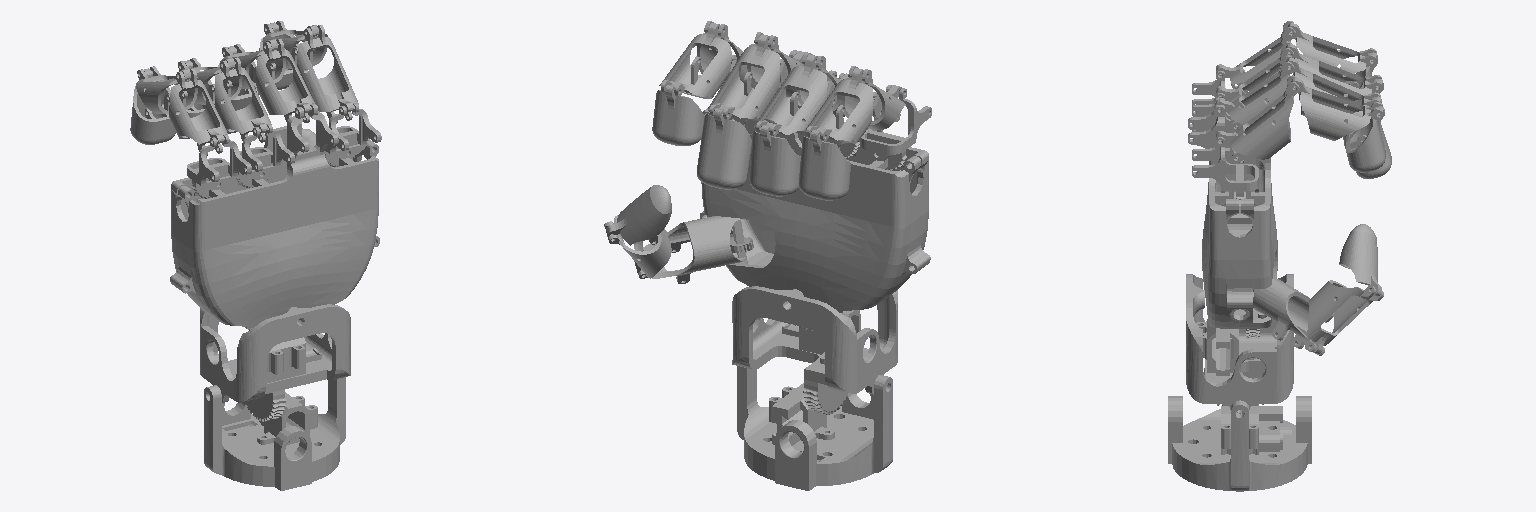
--- Render facts (derived) ---
The picture shows the robot from 3 angles, left to right: view 1: azimuth 30°, elevation 25°; view 2: azimuth 150°, elevation 25°; view 3: azimuth 270°, elevation 25°; orthographic projection.
Robot: P3_ROS — 21 links, 20 joints (20 revolute); root link AUBO_Base; default pose: joints at zero except 14 at the middle of their limits (Thumb_MCP = -1.21, Thumb_IP = -0.8858, Index_MCP = -0.855, Index_PIP = -1.08, Index_DIP = -0.9884, Middle_MCP = -0.9416, +8 more).
Links seen in each view (by area): view 1: Knuckle_Holder, Below_Palm, AUBO_Base, I_MCP, M_MCP, P_MCP, R_MCP, P_Below_MCP, R_Below_MCP, I_Below_MCP, P_DIP, P_PIP (+3 smaller); view 2: Knuckle_Holder, Below_Palm, AUBO_Base, T_CMC, M_DIP, M_PIP, R_PIP, I_PIP, R_DIP, P_DIP, P_PIP, I_DIP (+7 smaller); view 3: Knuckle_Holder, AUBO_Base, Below_Palm, I_MCP, T_MCP, I_PIP, T_CMC, I_Below_MCP, M_MCP, T_IP, P_PIP, I_DIP (+5 smaller).
Link boxes in pixels (left/top/right/bottom): Knuckle_Holder: left=170, top=103, right=379, bottom=330; Below_Palm: left=200, top=304, right=350, bottom=421; AUBO_Base: left=204, top=377, right=345, bottom=490; I_MCP: left=297, top=25, right=358, bottom=122; M_MCP: left=256, top=39, right=314, bottom=122; P_MCP: left=169, top=68, right=227, bottom=155; R_MCP: left=215, top=57, right=271, bottom=144; P_Below_MCP: left=187, top=134, right=251, bottom=198; R_Below_MCP: left=236, top=124, right=294, bottom=187; I_Below_MCP: left=325, top=103, right=381, bottom=166; P_DIP: left=130, top=68, right=175, bottom=144; P_PIP: left=136, top=66, right=197, bottom=113; Knuckle_Holder: left=700, top=50, right=930, bottom=330; Below_Palm: left=732, top=286, right=897, bottom=414; AUBO_Base: left=737, top=366, right=892, bottom=490; T_CMC: left=634, top=216, right=753, bottom=283; M_DIP: left=697, top=108, right=751, bottom=189; M_PIP: left=708, top=34, right=779, bottom=121; R_PIP: left=754, top=54, right=827, bottom=136; I_PIP: left=659, top=23, right=731, bottom=98; R_DIP: left=749, top=125, right=800, bottom=196; P_DIP: left=799, top=129, right=850, bottom=200; P_PIP: left=804, top=68, right=872, bottom=143; I_DIP: left=652, top=85, right=704, bottom=145; Knuckle_Holder: left=1188, top=98, right=1277, bottom=338; AUBO_Base: left=1168, top=396, right=1311, bottom=491; Below_Palm: left=1186, top=274, right=1293, bottom=413; I_MCP: left=1216, top=75, right=1299, bottom=162; T_MCP: left=1307, top=280, right=1383, bottom=353; I_PIP: left=1291, top=78, right=1382, bottom=140; T_CMC: left=1253, top=277, right=1324, bottom=355; I_Below_MCP: left=1192, top=131, right=1258, bottom=207; M_MCP: left=1215, top=55, right=1294, bottom=131; T_IP: left=1339, top=224, right=1381, bottom=296; P_PIP: left=1288, top=23, right=1376, bottom=75; I_DIP: left=1346, top=106, right=1385, bottom=172.
Size in the robot's own frame: 0.1485 by 0.1198 by 0.2467 metres.
21 mesh visuals loaded from 21 distinct referenced files (21 binary STL).

The robot description file, URDF, robot "P3_ROS":
<?xml version="1.0" encoding="utf-8"?>
<!-- This URDF was automatically created by SolidWorks to URDF Exporter! Originally created by Stephen Brawner ([email redacted]) 
     Commit Version: 1.6.0-4-g7f85cfe  Build Version: 1.6.7995.38578
     For more information, please see http://wiki.ros.org/sw_urdf_exporter -->
<robot
  name="P3_ROS">
  <link
    name="AUBO_Base">
    <inertial>
      <origin
        xyz="0.00278040178371279 0.0137619089402064 -0.000267427347976779"
        rpy="0 0 0" />
      <mass
        value="0.0536915416174576" />
      <inertia
        ixx="2.70801043475091E-05"
        ixy="-4.02713297525871E-07"
        ixz="2.10419992156217E-07"
        iyy="4.87071775355948E-05"
        iyz="1.75973062686978E-07"
        izz="3.26759005649058E-05" />
    </inertial>
    <visual>
      <origin
        xyz="0 0 0"
        rpy="0 0 0" />
      <geometry>
        <mesh
          filename="package://P3_ROS/meshes/AUBO_Base.STL" />
      </geometry>
      <material
        name="">
        <color
          rgba="0.698039215686274 0.698039215686274 0.698039215686274 1" />
      </material>
    </visual>
    <collision>
      <origin
        xyz="0 0 0"
        rpy="0 0 0" />
      <geometry>
        <mesh
          filename="package://P3_ROS/meshes/AUBO_Base.STL" />
      </geometry>
    </collision>
  </link>
  <link
    name="Below_Palm">
    <inertial>
      <origin
        xyz="-0.00161904873633678 0.0170034509609812 0.000924243542658435"
        rpy="0 0 0" />
      <mass
        value="0.0583769628757469" />
      <inertia
        ixx="4.54620375746746E-05"
        ixy="-3.49858982409835E-07"
        ixz="2.96293190384862E-07"
        iyy="4.71250564940575E-05"
        iyz="-1.72909999743254E-06"
        izz="3.52450763174062E-05" />
    </inertial>
    <visual>
      <origin
        xyz="0 0 0"
        rpy="0 0 0" />
      <geometry>
        <mesh
          filename="package://P3_ROS/meshes/Below_Palm.STL" />
      </geometry>
      <material
        name="">
        <color
          rgba="0.698039215686274 0.698039215686274 0.698039215686274 1" />
      </material>
    </visual>
    <collision>
      <origin
        xyz="0 0 0"
        rpy="0 0 0" />
      <geometry>
        <mesh
          filename="package://P3_ROS/meshes/Below_Palm.STL" />
      </geometry>
    </collision>
  </link>
  <joint
    name="Wrist_2"
    type="revolute">
    <origin
      xyz="0 0 0.049"
      rpy="1.5708 0 1.5708" />
    <parent
      link="AUBO_Base" />
    <child
      link="Below_Palm" />
    <axis
      xyz="0 0 1" />
    <limit
      lower="-1.1294"
      upper="1.2489"
      effort="0"
      velocity="0" />
  </joint>
  <link
    name="Knuckle_Holder">
    <inertial>
      <origin
        xyz="0.00127180755281365 0.0369506250760439 -0.00063534532092032"
        rpy="0 0 0" />
      <mass
        value="0.116848968632615" />
      <inertia
        ixx="0.000126096351062626"
        ixy="7.84970809749604E-06"
        ixz="-2.9838290073608E-06"
        iyy="0.000151450089009521"
        iyz="2.70550323065712E-06"
        izz="0.000236651192540967" />
    </inertial>
    <visual>
      <origin
        xyz="0 0 0"
        rpy="0 0 0" />
      <geometry>
        <mesh
          filename="package://P3_ROS/meshes/Knuckle_Holder.STL" />
      </geometry>
      <material
        name="">
        <color
          rgba="0.698039215686274 0.698039215686274 0.698039215686274 1" />
      </material>
    </visual>
    <collision>
      <origin
        xyz="0 0 0"
        rpy="0 0 0" />
      <geometry>
        <mesh
          filename="package://P3_ROS/meshes/Knuckle_Holder.STL" />
      </geometry>
    </collision>
  </link>
  <joint
    name="Wrist_1"
    type="revolute">
    <origin
      xyz="0 0.048 0.0027545"
      rpy="0 1.5708 0" />
    <parent
      link="Below_Palm" />
    <child
      link="Knuckle_Holder" />
    <axis
      xyz="0 0 1" />
    <limit
      lower="-0.41544"
      upper="0.41544"
      effort="0"
      velocity="0" />
  </joint>
  <link
    name="T_CMC">
    <inertial>
      <origin
        xyz="-0.0188547439499926 0.0171938818918783 -0.02142438462294"
        rpy="0 0 0" />
      <mass
        value="0.00757646844060059" />
      <inertia
        ixx="1.8547197356156E-06"
        ixy="3.95328998638882E-08"
        ixz="-4.21686926967571E-08"
        iyy="8.95427700424448E-07"
        iyz="-2.71565458332892E-07"
        izz="2.01850506438788E-06" />
    </inertial>
    <visual>
      <origin
        xyz="0 0 0"
        rpy="0 0 0" />
      <geometry>
        <mesh
          filename="package://P3_ROS/meshes/T_CMC.STL" />
      </geometry>
      <material
        name="">
        <color
          rgba="0.698039215686274 0.698039215686274 0.698039215686274 1" />
      </material>
    </visual>
    <collision>
      <origin
        xyz="0 0 0"
        rpy="0 0 0" />
      <geometry>
        <mesh
          filename="package://P3_ROS/meshes/T_CMC.STL" />
      </geometry>
    </collision>
  </link>
  <joint
    name="Thumb_CMC"
    type="revolute">
    <origin
      xyz="-0.03389 -0.0067732 0.011594"
      rpy="2.1814 -0.59941 -0.7352" />
    <parent
      link="Knuckle_Holder" />
    <child
      link="T_CMC" />
    <axis
      xyz="0.64279 0 0.76604" />
    <limit
      lower="-1.5708"
      upper="0"
      effort="0"
      velocity="0" />
  </joint>
  <link
    name="T_MCP">
    <inertial>
      <origin
        xyz="-0.0191724859142255 0.0222044167762714 -0.0105839597746515"
        rpy="0 0 0" />
      <mass
        value="0.00341830832417688" />
      <inertia
        ixx="5.43824756092306E-07"
        ixy="4.39696982794731E-12"
        ixz="-1.36130893885665E-11"
        iyy="4.21320145077056E-07"
        iyz="1.45881129591116E-08"
        izz="6.4153361173526E-07" />
    </inertial>
    <visual>
      <origin
        xyz="0 0 0"
        rpy="0 0 0" />
      <geometry>
        <mesh
          filename="package://P3_ROS/meshes/T_MCP.STL" />
      </geometry>
      <material
        name="">
        <color
          rgba="0.698039215686274 0.698039215686274 0.698039215686274 1" />
      </material>
    </visual>
    <collision>
      <origin
        xyz="0 0 0"
        rpy="0 0 0" />
      <geometry>
        <mesh
          filename="package://P3_ROS/meshes/T_MCP.STL" />
      </geometry>
    </collision>
  </link>
  <joint
    name="Thumb_MCP"
    type="revolute">
    <origin
      xyz="0 0.051 -0.011349"
      rpy="0.024222 0 0" />
    <parent
      link="T_CMC" />
    <child
      link="T_MCP" />
    <axis
      xyz="1 0 0" />
    <limit
      lower="-1.5528"
      upper="-0.86457"
      effort="0"
      velocity="0" />
  </joint>
  <link
    name="T_IP">
    <inertial>
      <origin
        xyz="-0.019153877270479 0.0208567015566215 -0.011166175758786"
        rpy="0 0 0" />
      <mass
        value="0.00367311050909873" />
      <inertia
        ixx="3.21810615947136E-07"
        ixy="2.91776079744812E-11"
        ixz="-5.04769074712269E-10"
        iyy="2.60686503696625E-07"
        iyz="7.12951435821031E-08"
        izz="3.29785541515355E-07" />
    </inertial>
    <visual>
      <origin
        xyz="0 0 0"
        rpy="0 0 0" />
      <geometry>
        <mesh
          filename="package://P3_ROS/meshes/T_IP.STL" />
      </geometry>
      <material
        name="">
        <color
          rgba="0.698039215686274 0.698039215686274 0.698039215686274 1" />
      </material>
    </visual>
    <collision>
      <origin
        xyz="0 0 0"
        rpy="0 0 0" />
      <geometry>
        <mesh
          filename="package://P3_ROS/meshes/T_IP.STL" />
      </geometry>
    </collision>
  </link>
  <joint
    name="Thumb_IP"
    type="revolute">
    <origin
      xyz="0 0.0465 0"
      rpy="0.0052649 0 0" />
    <parent
      link="T_MCP" />
    <child
      link="T_IP" />
    <axis
      xyz="1 0 0" />
    <limit
      lower="-1.23306"
      upper="-0.538504"
      effort="0"
      velocity="0" />
  </joint>
  <link
    name="I_Below_MCP">
    <inertial>
      <origin
        xyz="-1.91332690316348E-08 0.00523994189276999 0.00438611499640017"
        rpy="0 0 0" />
      <mass
        value="0.00534951941489969" />
      <inertia
        ixx="7.32906606259805E-07"
        ixy="-1.39714191646785E-14"
        ixz="-8.65569458872673E-12"
        iyy="6.96470076212018E-07"
        iyz="-2.16946811935413E-07"
        izz="7.16960840620401E-07" />
    </inertial>
    <visual>
      <origin
        xyz="0 0 0"
        rpy="0 0 0" />
      <geometry>
        <mesh
          filename="package://P3_ROS/meshes/I_Below_MCP.STL" />
      </geometry>
      <material
        name="">
        <color
          rgba="0.698039215686274 0.698039215686274 0.698039215686274 1" />
      </material>
    </visual>
    <collision>
      <origin
        xyz="0 0 0"
        rpy="0 0 0" />
      <geometry>
        <mesh
          filename="package://P3_ROS/meshes/I_Below_MCP.STL" />
      </geometry>
    </collision>
  </link>
  <joint
    name="Index_Below_MCP"
    type="revolute">
    <origin
      xyz="-0.042 0.087 0"
      rpy="3.1416 0 -3.1416" />
    <parent
      link="Knuckle_Holder" />
    <child
      link="I_Below_MCP" />
    <axis
      xyz="0 0 1" />
    <limit
      lower="-0.52018"
      upper="0"
      effort="0"
      velocity="0" />
  </joint>
  <link
    name="I_MCP">
    <inertial>
      <origin
        xyz="1.60706075696959E-07 0.0214534559005647 -0.0126089340150891"
        rpy="0 0 0" />
      <mass
        value="0.0042784827079899" />
      <inertia
        ixx="8.95459066830798E-07"
        ixy="5.52207282220504E-13"
        ixz="1.00727231307694E-11"
        iyy="5.21814062850473E-07"
        iyz="-2.37787524308387E-08"
        izz="1.02538663795254E-06" />
    </inertial>
    <visual>
      <origin
        xyz="0 0 0"
        rpy="0 0 0" />
      <geometry>
        <mesh
          filename="package://P3_ROS/meshes/I_MCP.STL" />
      </geometry>
      <material
        name="">
        <color
          rgba="0.698039215686274 0.698039215686274 0.698039215686274 1" />
      </material>
    </visual>
    <collision>
      <origin
        xyz="0 0 0"
        rpy="0 0 0" />
      <geometry>
        <mesh
          filename="package://P3_ROS/meshes/I_MCP.STL" />
      </geometry>
    </collision>
  </link>
  <joint
    name="Index_MCP"
    type="revolute">
    <origin
      xyz="0 0.028 0.0105"
      rpy="0 0 0" />
    <parent
      link="I_Below_MCP" />
    <child
      link="I_MCP" />
    <axis
      xyz="1 0 0" />
    <limit
      lower="-1.3654"
      upper="-0.34457"
      effort="0"
      velocity="0" />
  </joint>
  <link
    name="I_PIP">
    <inertial>
      <origin
        xyz="0.0104745637601555 0.0225277058184466 -5.84985698770524E-08"
        rpy="0 0 0" />
      <mass
        value="0.00371498527382687" />
      <inertia
        ixx="7.38341931114289E-07"
        ixy="-4.06415607145458E-09"
        ixz="-1.83681530443573E-11"
        iyy="4.59557692097787E-07"
        iyz="3.38393387626485E-12"
        izz="6.17675084887777E-07" />
    </inertial>
    <visual>
      <origin
        xyz="0 0 0"
        rpy="0 0 0" />
      <geometry>
        <mesh
          filename="package://P3_ROS/meshes/I_PIP.STL" />
      </geometry>
      <material
        name="">
        <color
          rgba="0.698039215686274 0.698039215686274 0.698039215686274 1" />
      </material>
    </visual>
    <collision>
      <origin
        xyz="0 0 0"
        rpy="0 0 0" />
      <geometry>
        <mesh
          filename="package://P3_ROS/meshes/I_PIP.STL" />
      </geometry>
    </collision>
  </link>
  <joint
    name="Index_PIP"
    type="revolute">
    <origin
      xyz="0 0.051 -0.00225"
      rpy="1.5708 1.5514 1.5708" />
    <parent
      link="I_MCP" />
    <child
      link="I_PIP" />
    <axis
      xyz="0 0 1" />
    <limit
      lower="-1.4455"
      upper="-0.7113"
      effort="0"
      velocity="0" />
  </joint>
  <link
    name="I_DIP">
    <inertial>
      <origin
        xyz="0.0102174474149143 0.0199762603712053 2.46091446727548E-07"
        rpy="0 0 0" />
      <mass
        value="0.00425159376419967" />
      <inertia
        ixx="4.98356420749076E-07"
        ixy="-9.57564593733141E-08"
        ixz="1.60587365235624E-11"
        iyy="4.23167175698519E-07"
        iyz="1.30948453717986E-11"
        izz="4.28705970306008E-07" />
    </inertial>
    <visual>
      <origin
        xyz="0 0 0"
        rpy="0 0 0" />
      <geometry>
        <mesh
          filename="package://P3_ROS/meshes/I_DIP.STL" />
      </geometry>
      <material
        name="">
        <color
          rgba="0.698039215686274 0.698039215686274 0.698039215686274 1" />
      </material>
    </visual>
    <collision>
      <origin
        xyz="0 0 0"
        rpy="0 0 0" />
      <geometry>
        <mesh
          filename="package://P3_ROS/meshes/I_DIP.STL" />
      </geometry>
    </collision>
  </link>
  <joint
    name="Index_DIP"
    type="revolute">
    <origin
      xyz="0 0.048 0"
      rpy="0 0 -0.019349" />
    <parent
      link="I_PIP" />
    <child
      link="I_DIP" />
    <axis
      xyz="0 0 1" />
    <limit
      lower="-1.337445"
      upper="-0.6394"
      effort="0"
      velocity="0" />
  </joint>
  <link
    name="M_MCP">
    <inertial>
      <origin
        xyz="0.0130000993756648 0.0194738060288053 -0.0122615751764491"
        rpy="0 0 0" />
      <mass
        value="0.00356183832705754" />
      <inertia
        ixx="6.33645316662712E-07"
        ixy="-7.48322283457872E-13"
        ixz="6.42992202281087E-13"
        iyy="4.32226138228889E-07"
        iyz="-2.1398582434494E-08"
        izz="7.46627420187009E-07" />
    </inertial>
    <visual>
      <origin
        xyz="0 0 0"
        rpy="0 0 0" />
      <geometry>
        <mesh
          filename="package://P3_ROS/meshes/M_MCP.STL" />
      </geometry>
      <material
        name="">
        <color
          rgba="0.698039215686274 0.698039215686274 0.698039215686274 1" />
      </material>
    </visual>
    <collision>
      <origin
        xyz="0 0 0"
        rpy="0 0 0" />
      <geometry>
        <mesh
          filename="package://P3_ROS/meshes/M_MCP.STL" />
      </geometry>
    </collision>
  </link>
  <joint
    name="Middle_MCP"
    type="revolute">
    <origin
      xyz="-0.001 0.121 -0.01094"
      rpy="3.1416 0 -3.1416" />
    <parent
      link="Knuckle_Holder" />
    <child
      link="M_MCP" />
    <axis
      xyz="1 0 0" />
    <limit
      lower="-1.4628"
      upper="-0.42033"
      effort="0"
      velocity="0" />
  </joint>
  <link
    name="M_PIP">
    <inertial>
      <origin
        xyz="0.0129994238022933 0.0252582720879362 -0.0108332662698445"
        rpy="0 0 0" />
      <mass
        value="0.0042553891681153" />
      <inertia
        ixx="8.07748529628043E-07"
        ixy="4.68568994911255E-11"
        ixz="-3.58312710518182E-11"
        iyy="5.2753515678823E-07"
        iyz="3.2166787078737E-08"
        izz="9.1440891219387E-07" />
    </inertial>
    <visual>
      <origin
        xyz="0 0 0"
        rpy="0 0 0" />
      <geometry>
        <mesh
          filename="package://P3_ROS/meshes/M_PIP.STL" />
      </geometry>
      <material
        name="">
        <color
          rgba="0.698039215686274 0.698039215686274 0.698039215686274 1" />
      </material>
    </visual>
    <collision>
      <origin
        xyz="0 0 0"
        rpy="0 0 0" />
      <geometry>
        <mesh
          filename="package://P3_ROS/meshes/M_PIP.STL" />
      </geometry>
    </collision>
  </link>
  <joint
    name="Middle_PIP"
    type="revolute">
    <origin
      xyz="0 0.045 -0.00225"
      rpy="0 0 0" />
    <parent
      link="M_MCP" />
    <child
      link="M_PIP" />
    <axis
      xyz="1 0 0" />
    <limit
      lower="-1.41076"
      upper="-0.74815"
      effort="0"
      velocity="0" />
  </joint>
  <link
    name="M_DIP">
    <inertial>
      <origin
        xyz="0.0129999509487357 0.0249602568688863 -0.0106926657966948"
        rpy="0 0 0" />
      <mass
        value="0.00577415599836008" />
      <inertia
        ixx="8.72036436536961E-07"
        ixy="1.19263359390556E-12"
        ixz="-3.90884366578215E-12"
        iyy="6.22688915702931E-07"
        iyz="1.33056795383682E-07"
        izz="9.77941426673379E-07" />
    </inertial>
    <visual>
      <origin
        xyz="0 0 0"
        rpy="0 0 0" />
      <geometry>
        <mesh
          filename="package://P3_ROS/meshes/M_DIP.STL" />
      </geometry>
      <material
        name="">
        <color
          rgba="0.698039215686274 0.698039215686274 0.698039215686274 1" />
      </material>
    </visual>
    <collision>
      <origin
        xyz="0 0 0"
        rpy="0 0 0" />
      <geometry>
        <mesh
          filename="package://P3_ROS/meshes/M_DIP.STL" />
      </geometry>
    </collision>
  </link>
  <joint
    name="Middle_DIP"
    type="revolute">
    <origin
      xyz="0 0.0515 0"
      rpy="0 0 0" />
    <parent
      link="M_PIP" />
    <child
      link="M_DIP" />
    <axis
      xyz="1 0 0" />
    <limit
      lower="-1.18872"
      upper="-0.45629"
      effort="0"
      velocity="0" />
  </joint>
  <link
    name="R_Below_MCP">
    <inertial>
      <origin
        xyz="1.38844317265421E-05 0.00524049779639665 -0.00438623992796771"
        rpy="0 0 0" />
      <mass
        value="0.00534942423056677" />
      <inertia
        ixx="7.32859981842569E-07"
        ixy="5.24609861584903E-10"
        ixz="-3.19407087097254E-10"
        iyy="6.96474845170847E-07"
        iyz="2.16933899555169E-07"
        izz="7.16930179843202E-07" />
    </inertial>
    <visual>
      <origin
        xyz="0 0 0"
        rpy="0 0 0" />
      <geometry>
        <mesh
          filename="package://P3_ROS/meshes/R_Below_MCP.STL" />
      </geometry>
      <material
        name="">
        <color
          rgba="0.698039215686274 0.698039215686274 0.698039215686274 1" />
      </material>
    </visual>
    <collision>
      <origin
        xyz="0 0 0"
        rpy="0 0 0" />
      <geometry>
        <mesh
          filename="package://P3_ROS/meshes/R_Below_MCP.STL" />
      </geometry>
    </collision>
  </link>
  <joint
    name="Ring_Below_MCP"
    type="revolute">
    <origin
      xyz="0.014 0.087 0"
      rpy="0 0 0" />
    <parent
      link="Knuckle_Holder" />
    <child
      link="R_Below_MCP" />
    <axis
      xyz="0 0 1" />
    <limit
      lower="-0.52018"
      upper="0"
      effort="0"
      velocity="0" />
  </joint>
  <link
    name="R_MCP">
    <inertial>
      <origin
        xyz="-4.65256594625596E-07 0.0189676045429669 -0.0120949901547308"
        rpy="0 0 0" />
      <mass
        value="0.00326985606176487" />
      <inertia
        ixx="5.88389022236639E-07"
        ixy="1.46189274353886E-11"
        ixz="-2.92986706885711E-11"
        iyy="3.86293542414919E-07"
        iyz="-2.05284784668316E-08"
        izz="6.57972639542673E-07" />
    </inertial>
    <visual>
      <origin
        xyz="0 0 0"
        rpy="0 0 0" />
      <geometry>
        <mesh
          filename="package://P3_ROS/meshes/R_MCP.STL" />
      </geometry>
      <material
        name="">
        <color
          rgba="0.698039215686274 0.698039215686274 0.698039215686274 1" />
      </material>
    </visual>
    <collision>
      <origin
        xyz="0 0 0"
        rpy="0 0 0" />
      <geometry>
        <mesh
          filename="package://P3_ROS/meshes/R_MCP.STL" />
      </geometry>
    </collision>
  </link>
  <joint
    name="Ring_MCP"
    type="revolute">
    <origin
      xyz="0 0.028 -0.0105"
      rpy="3.1416 0 3.1416" />
    <parent
      link="R_Below_MCP" />
    <child
      link="R_MCP" />
    <axis
      xyz="1 0 0" />
    <limit
      lower="-1.356995"
      upper="-0.470253"
      effort="0"
      velocity="0" />
  </joint>
  <link
    name="R_PIP">
    <inertial>
      <origin
        xyz="1.53922076234075E-06 0.023310450256673 -0.00984437691935296"
        rpy="0 0 0" />
      <mass
        value="0.00384900712618792" />
      <inertia
        ixx="7.15539545157502E-07"
        ixy="-4.66393665863244E-11"
        ixz="5.13601987777356E-11"
        iyy="4.60134113785076E-07"
        iyz="1.20538888918569E-08"
        izz="8.05246178054023E-07" />
    </inertial>
    <visual>
      <origin
        xyz="0 0 0"
        rpy="0 0 0" />
      <geometry>
        <mesh
          filename="package://P3_ROS/meshes/R_PIP.STL" />
      </geometry>
      <material
        name="">
        <color
          rgba="0.698039215686274 0.698039215686274 0.698039215686274 1" />
      </material>
    </visual>
    <collision>
      <origin
        xyz="0 0 0"
        rpy="0 0 0" />
      <geometry>
        <mesh
          filename="package://P3_ROS/meshes/R_PIP.STL" />
      </geometry>
    </collision>
  </link>
  <joint
    name="Ring_PIP"
    type="revolute">
    <origin
      xyz="0 0.045 -0.00225"
      rpy="0 0 0" />
    <parent
      link="R_MCP" />
    <child
      link="R_PIP" />
    <axis
      xyz="1 0 0" />
    <limit
      lower="-1.419486"
      upper="-0.691415"
      effort="0"
      velocity="0" />
  </joint>
  <link
    name="R_DIP">
    <inertial>
      <origin
        xyz="2.09227845606244E-07 0.024421248294507 -0.010469334340024"
        rpy="0 0 0" />
      <mass
        value="0.00511134145781505" />
      <inertia
        ixx="6.74826649967002E-07"
        ixy="1.29937901533371E-11"
        ixz="-3.05204360154962E-11"
        iyy="5.28552356982958E-07"
        iyz="1.26608709839672E-07"
        izz="7.46443382031746E-07" />
    </inertial>
    <visual>
      <origin
        xyz="0 0 0"
        rpy="0 0 0" />
      <geometry>
        <mesh
          filename="package://P3_ROS/meshes/R_DIP.STL" />
      </geometry>
      <material
        name="">
        <color
          rgba="0.698039215686274 0.698039215686274 0.698039215686274 1" />
      </material>
    </visual>
    <collision>
      <origin
        xyz="0 0 0"
        rpy="0 0 0" />
      <geometry>
        <mesh
          filename="package://P3_ROS/meshes/R_DIP.STL" />
      </geometry>
    </collision>
  </link>
  <joint
    name="Ring_DIP"
    type="revolute">
    <origin
      xyz="0 0.0515 0"
      rpy="0 0 0" />
    <parent
      link="R_PIP" />
    <child
      link="R_DIP" />
    <axis
      xyz="1 0 0" />
    <limit
      lower="-1.396095"
      upper="-0.708346"
      effort="0"
      velocity="0" />
  </joint>
  <link
    name="P_Below_MCP">
    <inertial>
      <origin
        xyz="8.41060112070913E-06 0.00526126613307609 -0.00439536374453332"
        rpy="0 0 0" />
      <mass
        value="0.00533831973770942" />
      <inertia
        ixx="7.31356207626987E-07"
        ixy="3.54914233705556E-10"
        ixz="-1.91691840441875E-10"
        iyy="6.9519118586746E-07"
        iyz="2.1644634707244E-07"
        izz="7.14609570286138E-07" />
    </inertial>
    <visual>
      <origin
        xyz="0 0 0"
        rpy="0 0 0" />
      <geometry>
        <mesh
          filename="package://P3_ROS/meshes/P_Below_MCP.STL" />
      </geometry>
      <material
        name="">
        <color
          rgba="0.698039215686274 0.698039215686274 0.698039215686274 1" />
      </material>
    </visual>
    <collision>
      <origin
        xyz="0 0 0"
        rpy="0 0 0" />
      <geometry>
        <mesh
          filename="package://P3_ROS/meshes/P_Below_MCP.STL" />
      </geometry>
    </collision>
  </link>
  <joint
    name="Pinky_Below_MCP"
    type="revolute">
    <origin
      xyz="0.042 0.087 0"
      rpy="0 0 0" />
    <parent
      link="Knuckle_Holder" />
    <child
      link="P_Below_MCP" />
    <axis
      xyz="0 0 1" />
    <limit
      lower="-0.74186"
      upper="0"
      effort="0"
      velocity="0" />
  </joint>
  <link
    name="P_MCP">
    <inertial>
      <origin
        xyz="-2.62886995769374E-07 0.0207434675492707 -0.011885339397321"
        rpy="0 0 0" />
      <mass
        value="0.00321336885733434" />
      <inertia
        ixx="6.01915424286415E-07"
        ixy="1.56668207946324E-11"
        ixz="-1.73583370408102E-11"
        iyy="3.7581939994914E-07"
        iyz="7.42197186572937E-09"
        izz="6.71567299326979E-07" />
    </inertial>
    <visual>
      <origin
        xyz="0 0 0"
        rpy="0 0 0" />
      <geometry>
        <mesh
          filename="package://P3_ROS/meshes/P_MCP.STL" />
      </geometry>
      <material
        name="">
        <color
          rgba="0.698039215686274 0.698039215686274 0.698039215686274 1" />
      </material>
    </visual>
    <collision>
      <origin
        xyz="0 0 0"
        rpy="0 0 0" />
      <geometry>
        <mesh
          filename="package://P3_ROS/meshes/P_MCP.STL" />
      </geometry>
    </collision>
  </link>
  <joint
    name="Pinky_MCP"
    type="revolute">
    <origin
      xyz="0 0.028 -0.0105"
      rpy="3.1416 0 3.1416" />
    <parent
      link="P_Below_MCP" />
    <child
      link="P_MCP" />
    <axis
      xyz="1 0 0" />
    <limit
      lower="-1.4134"
      upper="-0.46659"
      effort="0"
      velocity="0" />
  </joint>
  <link
    name="P_PIP">
    <inertial>
      <origin
        xyz="9.0053990615957E-07 0.0224316850854916 -0.00994106588374115"
        rpy="0 0 0" />
      <mass
        value="0.00337816858545398" />
      <inertia
        ixx="5.58901296964282E-07"
        ixy="7.55022683985797E-11"
        ixz="-7.14447678655336E-11"
        iyy="4.08812318893672E-07"
        iyz="1.14510097354083E-08"
        izz="6.47621020420649E-07" />
    </inertial>
    <visual>
      <origin
        xyz="0 0 0"
        rpy="0 0 0" />
      <geometry>
        <mesh
          filename="package://P3_ROS/meshes/P_PIP.STL" />
      </geometry>
      <material
        name="">
        <color
          rgba="0.698039215686274 0.698039215686274 0.698039215686274 1" />
      </material>
    </visual>
    <collision>
      <origin
        xyz="0 0 0"
        rpy="0 0 0" />
      <geometry>
        <mesh
          filename="package://P3_ROS/meshes/P_PIP.STL" />
      </geometry>
    </collision>
  </link>
  <joint
    name="Pinky_PIP"
    type="revolute">
    <origin
      xyz="0 0.0455 -0.00225"
      rpy="0 0 0" />
    <parent
      link="P_MCP" />
    <child
      link="P_PIP" />
    <axis
      xyz="1 0 0" />
    <limit
      lower="-1.32104"
      upper="-0.67483"
      effort="0"
      velocity="0" />
  </joint>
  <link
    name="P_DIP">
    <inertial>
      <origin
        xyz="2.94313484042186E-07 0.0238464231963276 -0.0104224927451851"
        rpy="0 0 0" />
      <mass
        value="0.00496289403479215" />
      <inertia
        ixx="6.31036277552133E-07"
        ixy="7.27355340203463E-12"
        ixz="3.00457466880974E-11"
        iyy="5.10039953410707E-07"
        iyz="1.22677990250329E-07"
        izz="7.00197724499799E-07" />
    </inertial>
    <visual>
      <origin
        xyz="0 0 0"
        rpy="0 0 0" />
      <geometry>
        <mesh
          filename="package://P3_ROS/meshes/P_DIP.STL" />
      </geometry>
      <material
        name="">
        <color
          rgba="0.698039215686274 0.698039215686274 0.698039215686274 1" />
      </material>
    </visual>
    <collision>
      <origin
        xyz="0 0 0"
        rpy="0 0 0" />
      <geometry>
        <mesh
          filename="package://P3_ROS/meshes/P_DIP.STL" />
      </geometry>
    </collision>
  </link>
  <joint
    name="Pinky_DIP"
    type="revolute">
    <origin
      xyz="0 0.0465 0"
      rpy="0 0 0" />
    <parent
      link="P_PIP" />
    <child
      link="P_DIP" />
    <axis
      xyz="1 0 0" />
    <limit
      lower="-1.38702"
      upper="-0.70765"
      effort="0"
      velocity="0" />
  </joint>
</robot>
